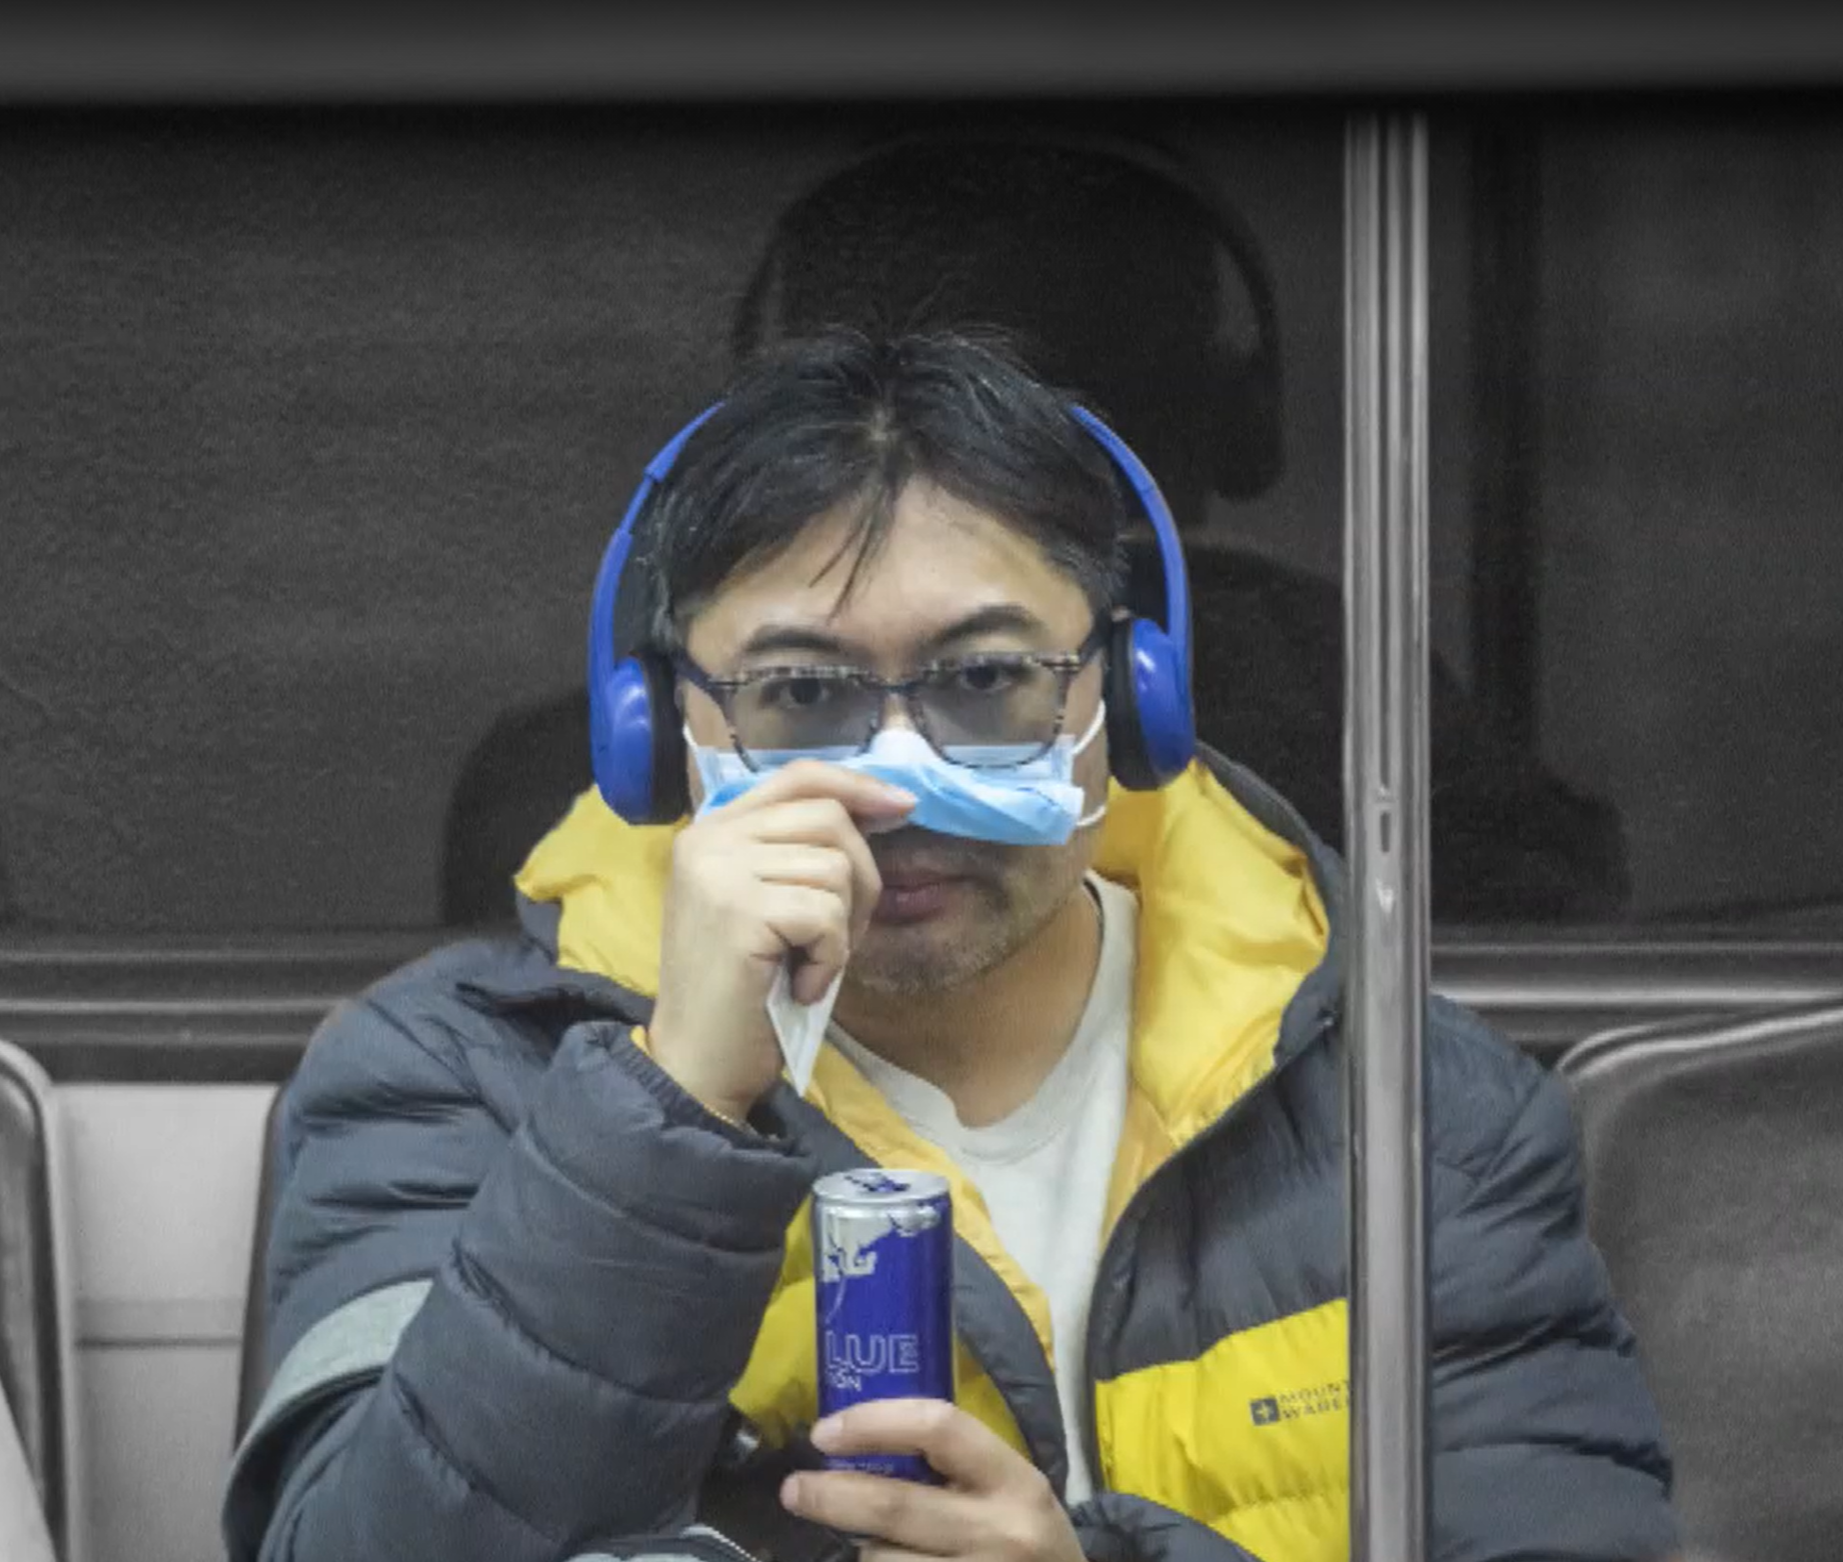mask_weared_incorrect: (659, 600, 1146, 1016)
